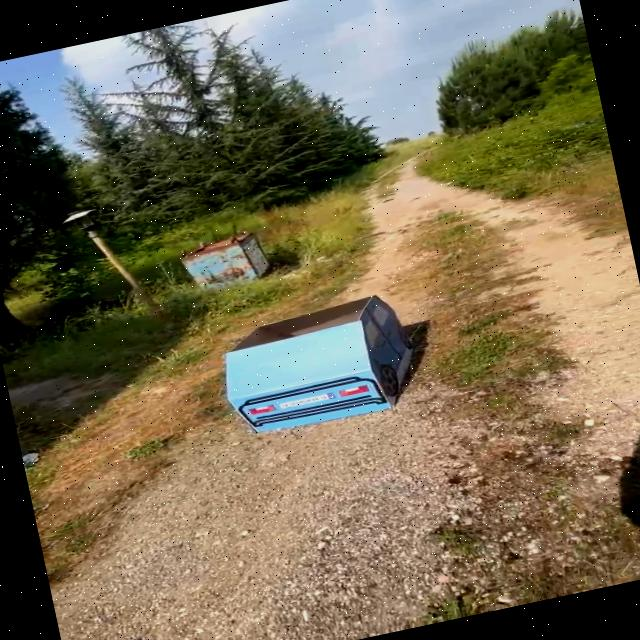blue_car: (202, 273, 440, 444)
